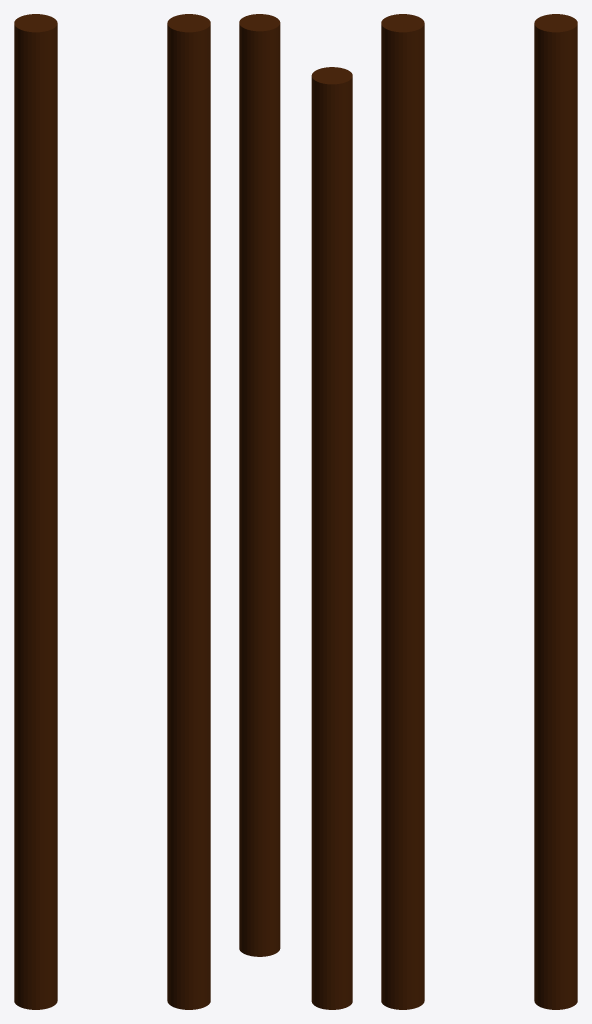
File: ladder.fbx
The picture shows the model from 3 angles, left to right: view 1: azimuth 90°, elevation 25°; view 2: azimuth 210°, elevation 25°; view 3: azimuth 270°, elevation 25°; orthographic projection. The views are drawn at different scales.
Visible parts, largest first — view 1: Cylinder.001; view 2: Cylinder.001; view 3: Cylinder.001.
Boxes of the visible parts, bbox=[...] form: Cylinder.001: bbox=[14, 14, 210, 1009]; Cylinder.001: bbox=[239, 14, 352, 1009]; Cylinder.001: bbox=[381, 14, 577, 1009].
Bounding box in the file's own units: 60 × 1490 × 272.
